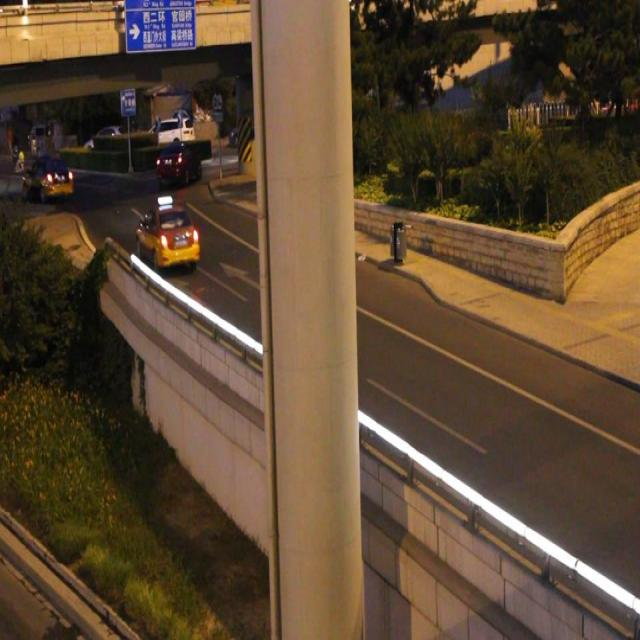car: (134, 196, 199, 272), (157, 142, 201, 183)
